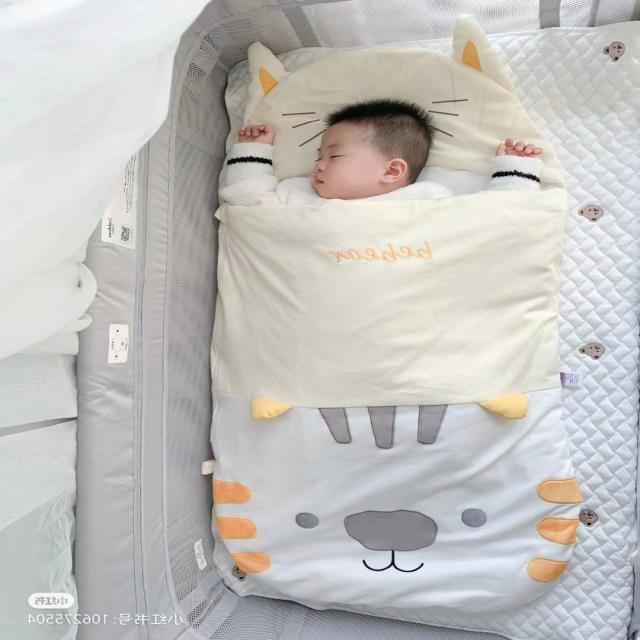child: (212, 97, 546, 217)
